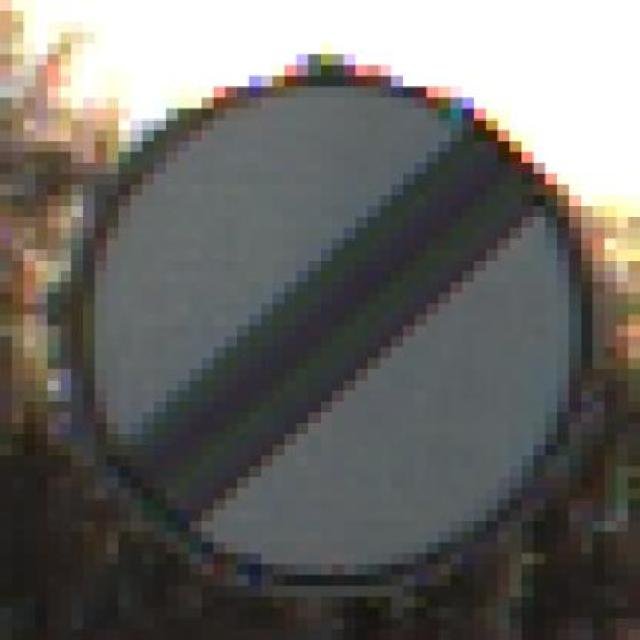End of all speed and passing limits: (70, 65, 604, 608)
